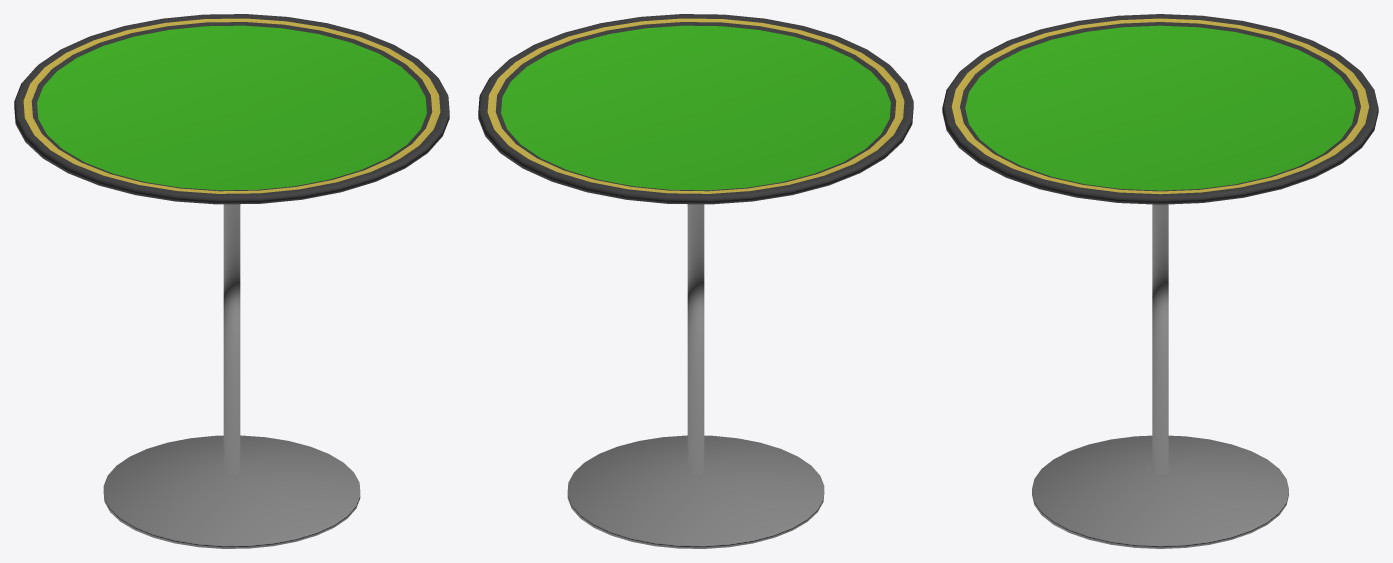
File: Cups and ball Table 001.fbx
3 renders of one model, left to right at view 1: azimuth 30°, elevation 25°; view 2: azimuth 150°, elevation 25°; view 3: azimuth 270°, elevation 25°, orthographic.
Visible parts, largest first — view 1: Cylinder; view 2: Cylinder; view 3: Cylinder.
Boxes of the visible parts, bbox=[...] form: Cylinder: bbox=[14, 14, 449, 548]; Cylinder: bbox=[478, 14, 913, 548]; Cylinder: bbox=[942, 14, 1378, 548].
Bounding box in the file's own units: 459 × 452 × 459.
